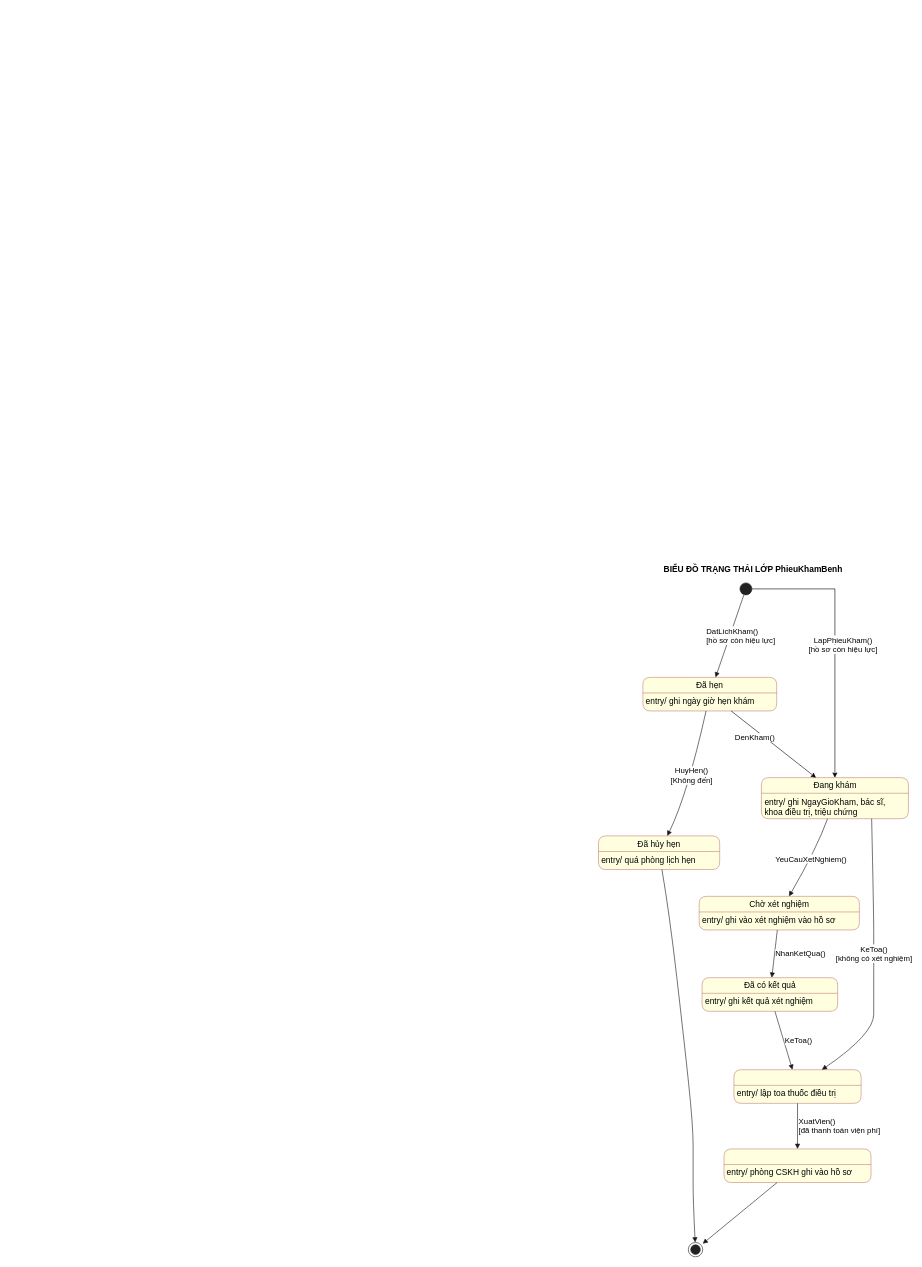
Image size: 922x1267. Some labels were removed from this diagram. Here are the shapes that lost their labels. From the top down, the box of each, then its label:
(734, 1069, 861, 1103): Đã có toa
(724, 1149, 871, 1182): Đã xuất viện
